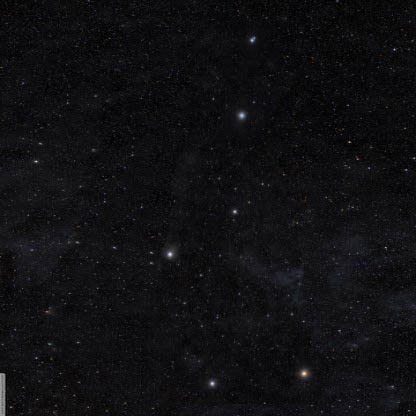Ursa Major: (242, 31, 272, 58), (291, 358, 318, 384), (158, 239, 179, 266), (199, 366, 220, 392), (231, 103, 251, 130), (227, 196, 246, 222)
